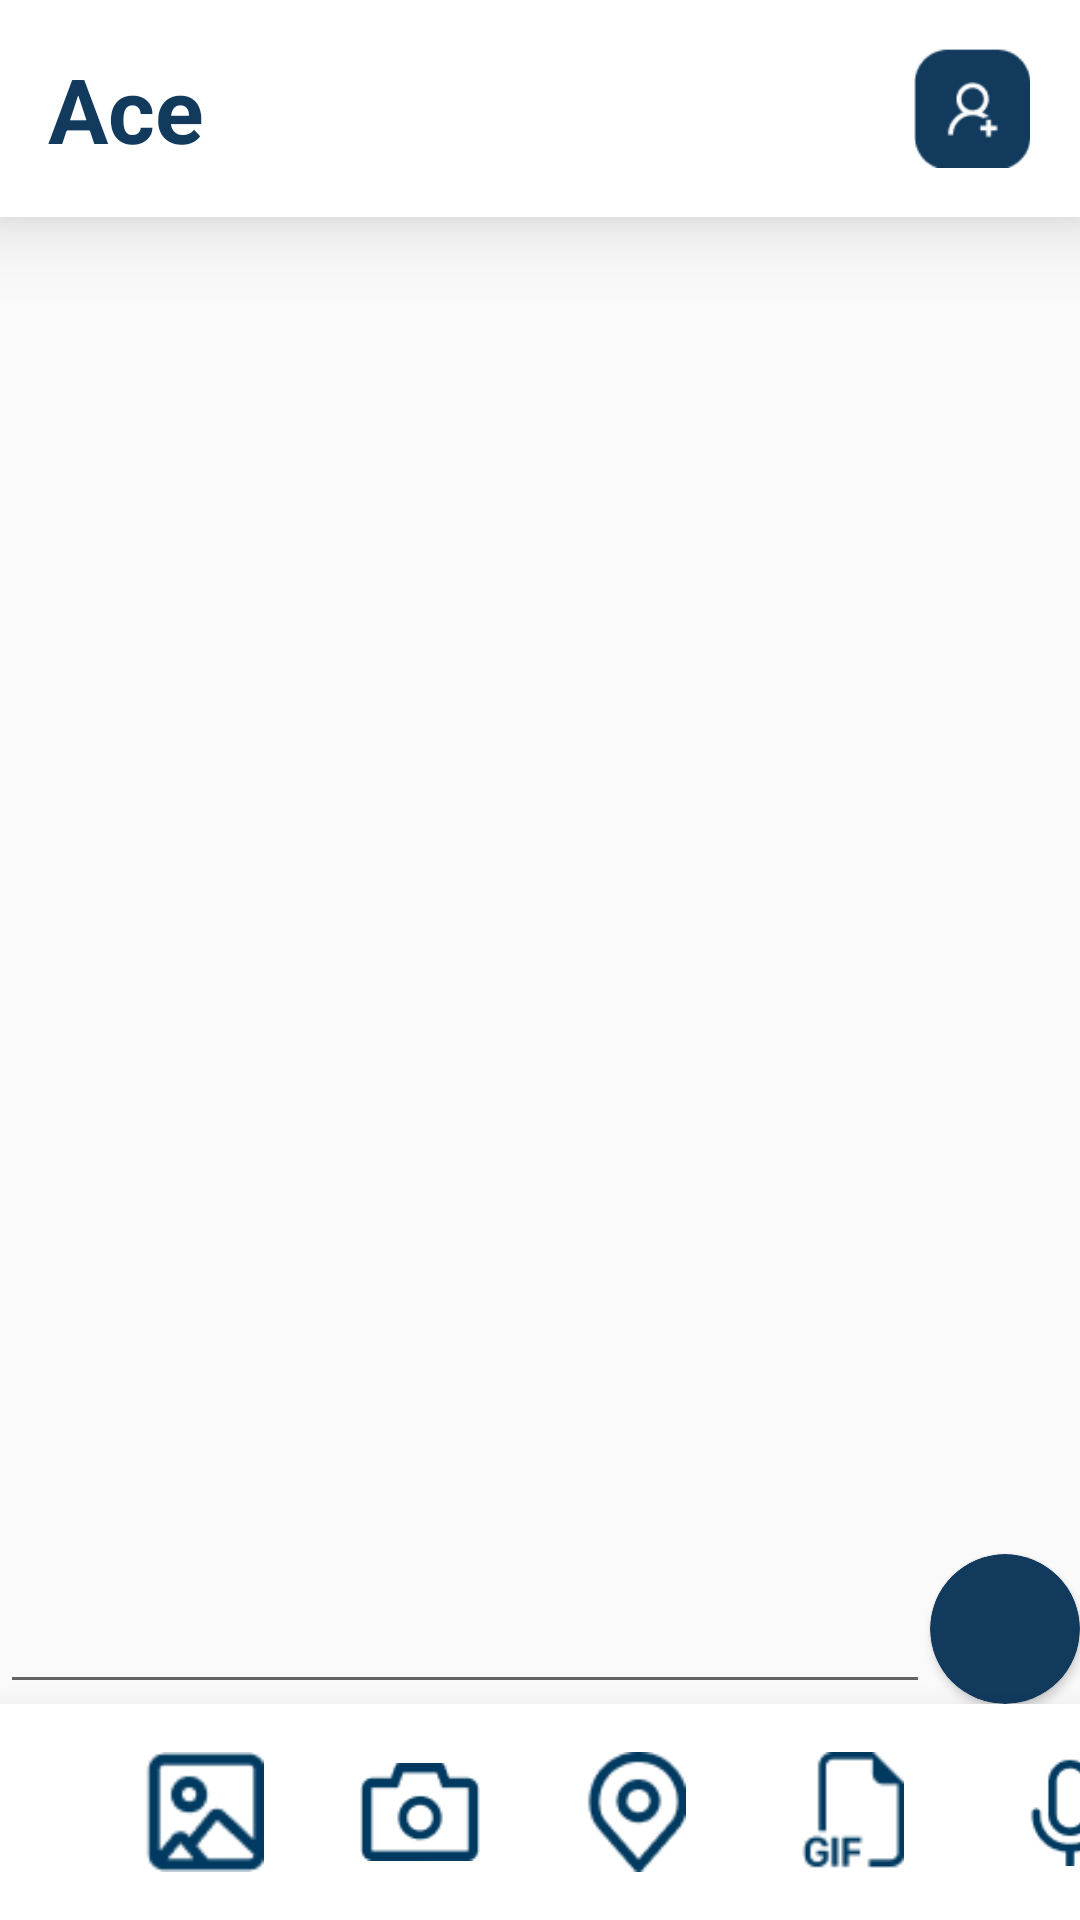

Named icons in this screenshot (1080 × 1920) and their bounding boxes, {"x1": x1, "y1": y1, "x2": x2, "y2": y2}:
add contacts: {"x1": 914, "y1": 49, "x2": 1030, "y2": 168}
message action camera: {"x1": 360, "y1": 1763, "x2": 480, "y2": 1861}
message action gallery: {"x1": 146, "y1": 1752, "x2": 264, "y2": 1872}
message action location: {"x1": 588, "y1": 1752, "x2": 686, "y2": 1872}
